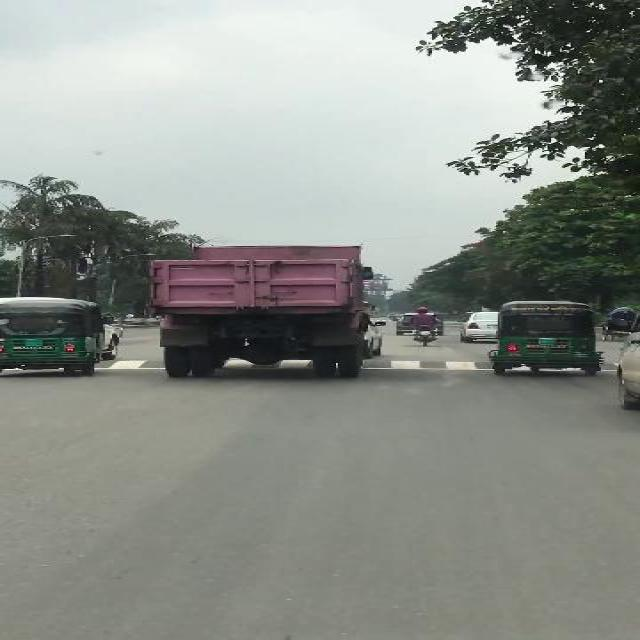bike: (411, 308, 437, 348)
vehicle: (147, 244, 374, 383), (491, 301, 606, 380), (1, 299, 108, 378), (460, 312, 498, 345), (600, 307, 636, 341)
